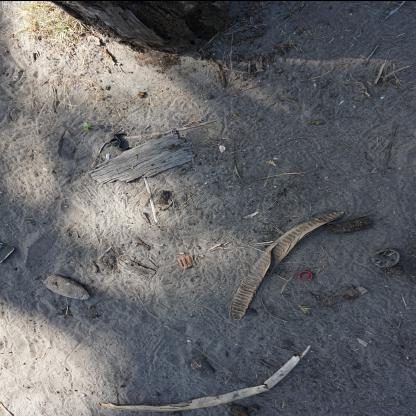plastik: (109, 132, 131, 150), (298, 270, 314, 280)
